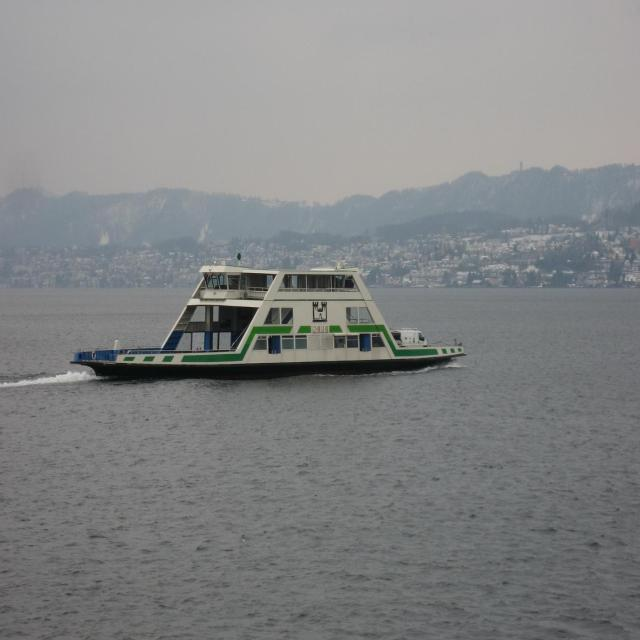passenger ship: (85, 258, 466, 388)
